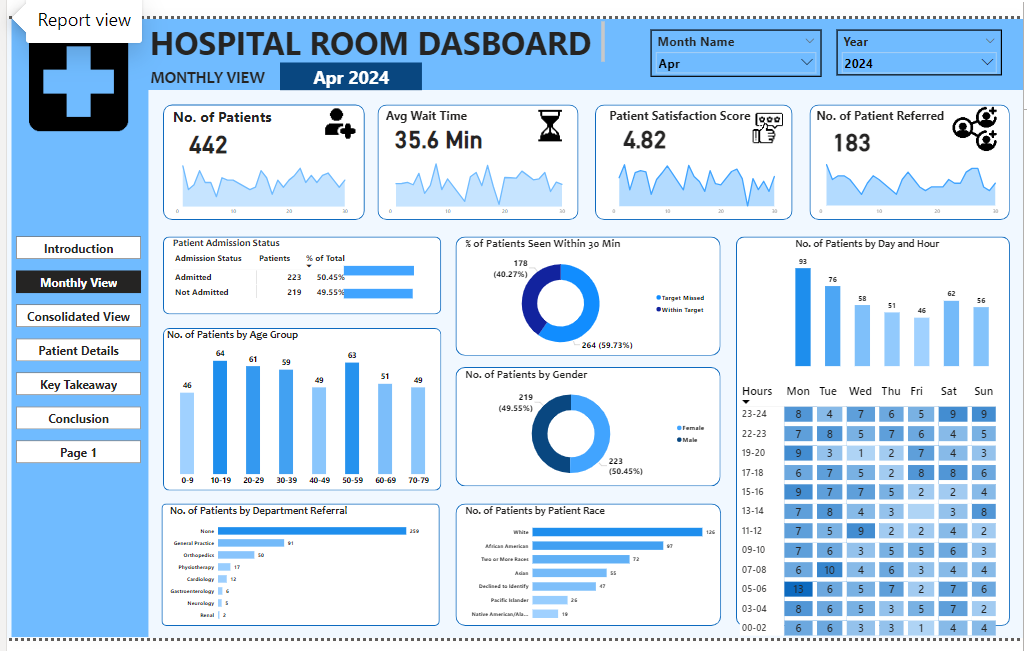

This screenshot's page, from the dashboard's own definition file:
{"tool":"powerbi","page":{"name":"Monthly View","canvas":[2300,1400],"ordinal":1},"visuals":[{"type":"shape","box":[352.6,192.1,456.5,261.3],"z":0},{"type":"shape","box":[9.4,0,310,1399],"z":1000},{"type":"shape","box":[318,0,1983.6,160.6],"z":2000},{"type":"textbox","box":[318,0,1039,103.9],"z":3000},{"type":"textbox","box":[318,103.9,925.7,56.7],"z":4000},{"type":"card","fields":{"Values":["Hospital ER_Data (2).No. of Patients"]},"box":[371.5,245.6,170,66.1],"z":5000},{"type":"slicer","fields":{"Values":["Date Table.Year"]},"box":[1876.5,25.2,374.7,103.9],"z":6000},{"type":"slicer","fields":{"Values":["Date Table.Month Name"]},"box":[1457.8,25.2,387.3,107],"z":7000},{"type":"textbox","box":[371.5,192.1,245.6,69.3],"z":8000},{"type":"areaChart","fields":{"Category":["Date Table.Date.Variation.Date Hierarchy.Day"],"Y":["Hospital ER_Data (2).No. of Patients"]},"box":[371.5,302.3,409.3,151.1],"z":9000},{"type":"card","fields":{"Values":["Min(Date Table.Month and Year)"]},"box":[617.1,97.6,321.1,63],"z":10000},{"type":"shape","box":[837.5,192.1,455,261.3],"z":11000},{"type":"card","fields":{"Values":["Hospital ER_Data (2).Avg Wait Time"]},"box":[853.2,226.7,248.7,75.6],"z":12000},{"type":"areaChart","fields":{"Category":["Date Table.Date.Variation.Date Hierarchy.Day"],"Y":["Avg(Hospital ER_Data (2).Patient Waittime)"]},"box":[853.2,302.3,418.8,151.1],"z":13000},{"type":"shape","box":[1331.8,192.1,447.1,261.3],"z":14000},{"type":"card","fields":{"Values":["Hospital ER_Data (2).Satisfaction Score"]},"box":[1357,220.4,170,91.3],"z":15000},{"type":"areaChart","fields":{"Category":["Date Table.Date.Variation.Date Hierarchy.Day"],"Y":["Hospital ER_Data (2).Satisfaction Score"]},"box":[1357,302.3,393.6,151.1],"z":16000},{"type":"shape","box":[1816.7,192.1,453.4,261.3],"z":17000},{"type":"card","fields":{"Values":["Hospital ER_Data (2).No. of Patient Referred"]},"box":[1826.1,239.3,170,69.3],"z":18000},{"type":"areaChart","fields":{"Category":["Date Table.Date.Variation.Date Hierarchy.Day"],"Y":["Hospital ER_Data (2).No. of Patient Referred"]},"box":[1826.1,283.4,425,170],"z":19000},{"type":"shape","box":[352.6,491.2,629.7,176.3],"z":20000},{"type":"textbox","box":[853.2,192.1,440.8,69.3],"z":21000},{"type":"textbox","box":[1357,192.1,352.6,69.3],"z":22000},{"type":"textbox","box":[1826.1,192.1,311.7,53.5],"z":23000},{"type":"pivotTable","title":"Patient Admission Status","fields":{"Rows":["Hospital ER_Data (2).Admission Status"],"Values":["Hospital ER_Data (2).No. of Patients1","Hospital ER_Data (2).No. of Patients"]},"box":[371.5,491.2,585.6,176.3],"z":24000},{"type":"barChart","fields":{"Category":["Hospital ER_Data (2).Admission Status"],"Y":["Hospital ER_Data (2).No. of Patients"]},"box":[755.6,519.5,223.5,148],"z":25000},{"type":"shape","box":[352.6,699,630,368],"z":26000},{"type":"clusteredColumnChart","fields":{"Category":["Hospital ER_Data (2).Age Group"],"Y":["Hospital ER_Data (2).No. of Patients"]},"box":[355.8,699,626.6,368.4],"z":27000},{"type":"shape","box":[349.5,1095.7,629.7,277.1],"z":28000},{"type":"clusteredBarChart","fields":{"Category":["Hospital ER_Data (2).Department Referral"],"Y":["Hospital ER_Data (2).No. of Patients"]},"box":[362.1,1095.7,576.2,277.1],"z":29000},{"type":"shape","box":[1017,491.2,600,270],"z":30000},{"type":"donutChart","title":"% of Patients Seen Within 30 Min","fields":{"Category":["Hospital ER_Data (2).Wait Time Status"],"Y":["Hospital ER_Data (2).No. of Patients"]},"box":[1032.7,491.2,560.4,270.8],"z":31000},{"type":"shape","box":[1016.5,788.7,600,270],"z":32000},{"type":"donutChart","title":"No. of Patients by Gender","fields":{"Y":["Hospital ER_Data (2).No. of Patients"],"Category":["Hospital ER_Data (2).Patient Gender"]},"box":[1032.2,788.7,560.4,270.8],"z":33000},{"type":"shape","box":[1017,1095.7,601.4,277.1],"z":34000},{"type":"clusteredBarChart","fields":{"Y":["Hospital ER_Data (2).No. of Patients"],"Category":["Hospital ER_Data (2).Patient Race"]},"box":[1032.7,1095.7,576.2,277.1],"z":35000},{"type":"shape","box":[1649.8,491.2,620.3,881.6],"z":36000},{"type":"pivotTable","fields":{"Rows":["Hospital ER_Data (2).Wait Time Interval"],"Columns":["Date Table.Day Name"],"Values":["Hospital ER_Data (2).No. of Patients"]},"box":[1653,818.6,610.8,582.5],"z":37000},{"type":"clusteredColumnChart","title":"No. of Patients by Day and Hour","fields":{"Category":["Date Table.Day Name"],"Y":["Hospital ER_Data (2).No. of Patients"]},"box":[1778.9,491.2,450.2,299.1],"z":38000},{"type":"image","box":[702.1,198.4,103.9,78.7],"z":39000},{"type":"image","box":[1190.1,201.5,81.9,81.9],"z":40000},{"type":"image","box":[1668.7,207.8,110.2,78.7],"z":41000},{"type":"image","box":[2128.4,195.2,122.8,110.2],"z":42000},{"type":"image","box":[40.9,22,242.4,242.4],"z":43000},{"type":"pageNavigator","box":[22,491.2,283.4,519.5],"z":44000}]}

Visuals, with their boxes on the page's 2300x1400 design canvas (x1, y1, x2, y2). These are canvas units, not pixel positions in the 1027x651 screenshot, which may show the page scaled, cropped or inside an application window:
shape: bbox=[353, 192, 809, 453]
shape: bbox=[9, 0, 319, 1399]
shape: bbox=[318, 0, 2302, 161]
textbox: bbox=[318, 0, 1357, 104]
textbox: bbox=[318, 104, 1244, 161]
card - Hospital ER_Data (2).No. of Patients: bbox=[372, 246, 542, 312]
slicer - Date Table.Year: bbox=[1876, 25, 2251, 129]
slicer - Date Table.Month Name: bbox=[1458, 25, 1845, 132]
textbox: bbox=[372, 192, 617, 261]
areaChart - Date Table.Date.Variation.Date Hierarchy.Day x Hospital ER_Data (2).No. of Patients: bbox=[372, 302, 781, 453]
card - Min(Date Table.Month and Year): bbox=[617, 98, 938, 161]
shape: bbox=[838, 192, 1292, 453]
card - Hospital ER_Data (2).Avg Wait Time: bbox=[853, 227, 1102, 302]
areaChart - Date Table.Date.Variation.Date Hierarchy.Day x Avg(Hospital ER_Data (2).Patient Waittime): bbox=[853, 302, 1272, 453]
shape: bbox=[1332, 192, 1779, 453]
card - Hospital ER_Data (2).Satisfaction Score: bbox=[1357, 220, 1527, 312]
areaChart - Date Table.Date.Variation.Date Hierarchy.Day x Hospital ER_Data (2).Satisfaction Score: bbox=[1357, 302, 1751, 453]
shape: bbox=[1817, 192, 2270, 453]
card - Hospital ER_Data (2).No. of Patient Referred: bbox=[1826, 239, 1996, 309]
areaChart - Date Table.Date.Variation.Date Hierarchy.Day x Hospital ER_Data (2).No. of Patient Referred: bbox=[1826, 283, 2251, 453]
shape: bbox=[353, 491, 982, 668]
textbox: bbox=[853, 192, 1294, 261]
textbox: bbox=[1357, 192, 1710, 261]
textbox: bbox=[1826, 192, 2138, 246]
"Patient Admission Status" pivotTable: bbox=[372, 491, 957, 668]
barChart - Hospital ER_Data (2).Admission Status x Hospital ER_Data (2).No. of Patients: bbox=[756, 520, 979, 668]
shape: bbox=[353, 699, 983, 1067]
clusteredColumnChart - Hospital ER_Data (2).Age Group x Hospital ER_Data (2).No. of Patients: bbox=[356, 699, 982, 1067]
shape: bbox=[350, 1096, 979, 1373]
clusteredBarChart - Hospital ER_Data (2).Department Referral x Hospital ER_Data (2).No. of Patients: bbox=[362, 1096, 938, 1373]
shape: bbox=[1017, 491, 1617, 761]
"% of Patients Seen Within 30 Min" donutChart: bbox=[1033, 491, 1593, 762]
shape: bbox=[1016, 789, 1616, 1059]
"No. of Patients by Gender" donutChart: bbox=[1032, 789, 1593, 1060]
shape: bbox=[1017, 1096, 1618, 1373]
clusteredBarChart - Hospital ER_Data (2).No. of Patients x Hospital ER_Data (2).Patient Race: bbox=[1033, 1096, 1609, 1373]
shape: bbox=[1650, 491, 2270, 1373]
pivotTable - Hospital ER_Data (2).Wait Time Interval x Date Table.Day Name: bbox=[1653, 819, 2264, 1401]
"No. of Patients by Day and Hour" clusteredColumnChart: bbox=[1779, 491, 2229, 790]
image: bbox=[702, 198, 806, 277]
image: bbox=[1190, 202, 1272, 283]
image: bbox=[1669, 208, 1779, 286]
image: bbox=[2128, 195, 2251, 305]
image: bbox=[41, 22, 283, 264]
pageNavigator: bbox=[22, 491, 305, 1011]
